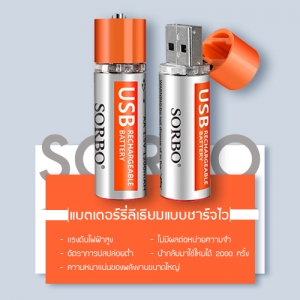Battery: (93, 12, 147, 200), (158, 14, 211, 202)
